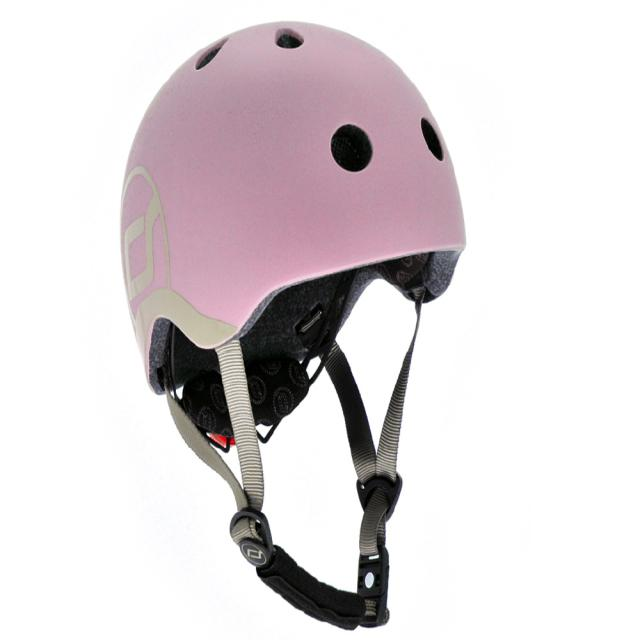Helmet: (114, 17, 472, 630)
